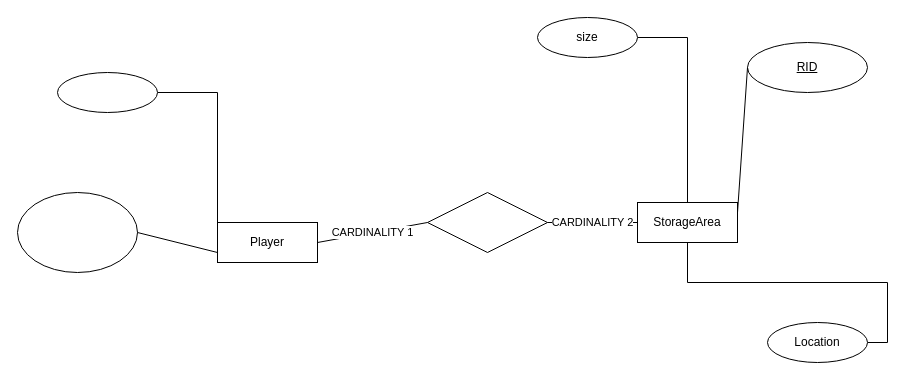
Image size: 906x380. Some labels were removed from this diagram. Each missing label, with the centre of its shape:
"owns" goes at (487,222).
"PID" goes at (77,232).
"PName" goes at (107,92).
